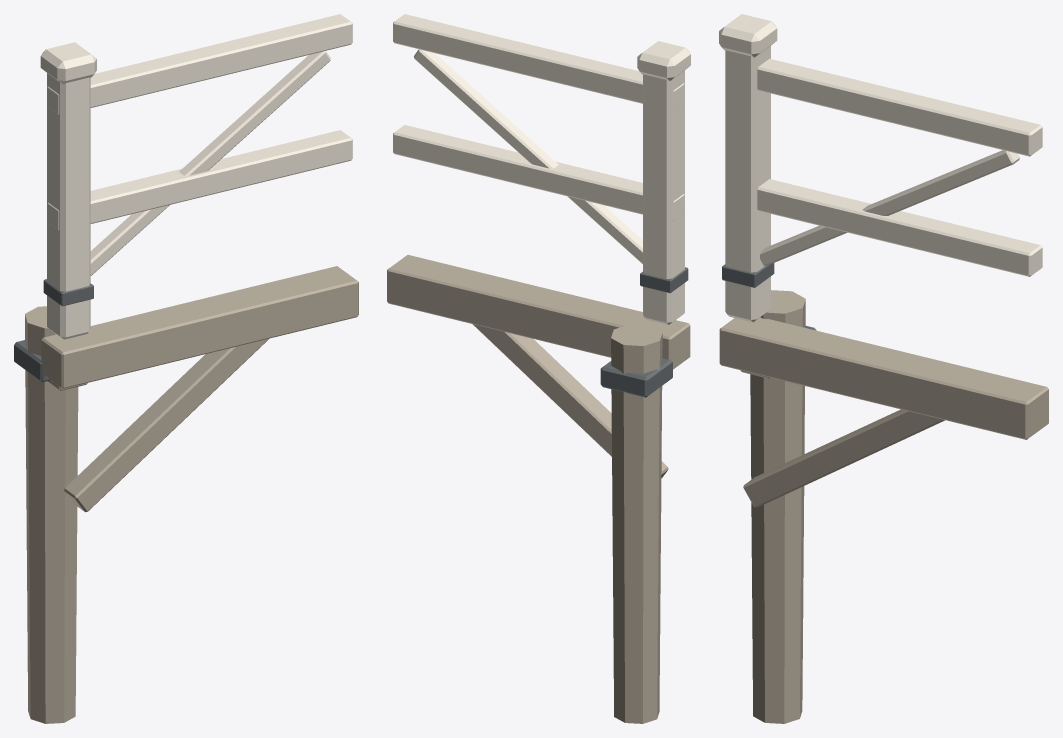
The model's file is wood_edge_left.glb.
3 renders of one model, left to right at view 1: azimuth 30°, elevation 25°; view 2: azimuth 150°, elevation 25°; view 3: azimuth 330°, elevation 25°, orthographic. The views are drawn at different scales.
Visible parts, largest first — view 1: wood_edge_left; view 2: wood_edge_left; view 3: wood_edge_left.
Boxes of the visible parts, bbox=[...] form: wood_edge_left: bbox=[14, 14, 358, 723]; wood_edge_left: bbox=[387, 14, 690, 723]; wood_edge_left: bbox=[719, 14, 1048, 723].
Bounding box in the file's own units: 1.03 × 2.23 × 0.2875.
